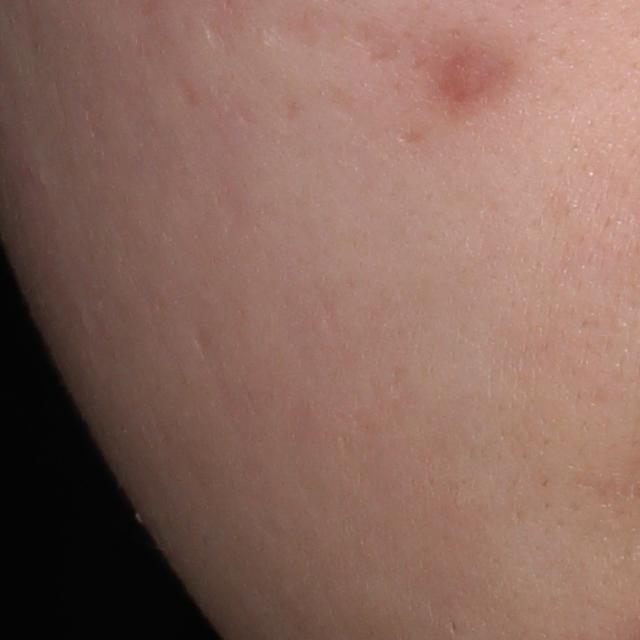atrophic_scar: (274, 8, 334, 49), (357, 21, 399, 61), (176, 74, 200, 105)
